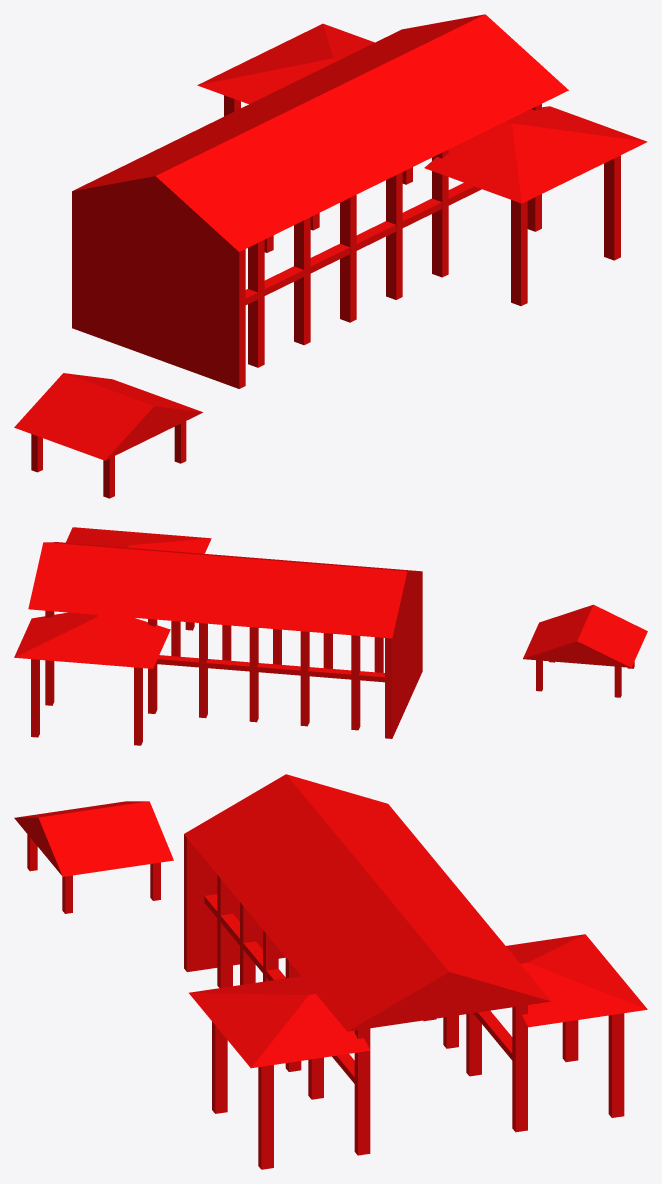
Rendered from 1979-church.obj.
3 views of the same model, one above another, from view 1: azimuth 30°, elevation 25°; view 2: azimuth 150°, elevation 25°; view 3: azimuth 270°, elevation 25° (orthographic). The views are drawn at different scales.
Visible parts, largest first — view 1: Obj_000105, Obj_000104, Obj_000043, Obj_000093, Obj_000094, Obj_000097, Obj_000100, Obj_000099, Obj_000151, Obj_000154, Obj_000153, Obj_000152 (+5 smaller); view 2: Obj_000105, Obj_000043, Obj_000104, Obj_000100, Obj_000098, Obj_000099, Obj_000101, Obj_000093, Obj_000146, Obj_000147, Obj_000144, Obj_000145 (+10 smaller); view 3: Obj_000105, Obj_000043, Obj_000093, Obj_000092, Obj_000101, Obj_000104, Obj_000100, Obj_000141, Obj_000148, Obj_000103, Obj_000090, Obj_000097 (+10 smaller).
Part boxes in pixels (<box>): Obj_000105: <box>72,14,568,251</box>; Obj_000104: <box>72,191,245,388</box>; Obj_000043: <box>14,373,202,460</box>; Obj_000093: <box>512,123,646,203</box>; Obj_000094: <box>424,121,521,203</box>; Obj_000097: <box>245,182,481,304</box>; Obj_000100: <box>197,23,332,85</box>; Obj_000099: <box>197,58,338,104</box>; Obj_000151: <box>248,240,264,367</box>; Obj_000154: <box>294,217,310,344</box>; Obj_000153: <box>340,194,356,322</box>; Obj_000152: <box>386,172,402,299</box>; Obj_000105: <box>28,542,422,638</box>; Obj_000043: <box>523,604,647,667</box>; Obj_000104: <box>385,571,422,738</box>; Obj_000100: <box>14,617,152,668</box>; Obj_000098: <box>155,655,384,682</box>; Obj_000099: <box>97,615,170,668</box>; Obj_000101: <box>14,612,97,657</box>; Obj_000093: <box>74,527,209,545</box>; Obj_000146: <box>249,627,258,722</box>; Obj_000147: <box>300,631,309,726</box>; Obj_000144: <box>351,635,360,730</box>; Obj_000145: <box>199,623,207,718</box>; Obj_000105: <box>184,774,551,1031</box>; Obj_000043: <box>14,801,173,876</box>; Obj_000093: <box>189,992,308,1067</box>; Obj_000092: <box>251,994,370,1068</box>; Obj_000101: <box>520,962,647,1027</box>; Obj_000104: <box>184,834,285,972</box>; Obj_000100: <box>528,934,647,1009</box>; Obj_000141: <box>512,1005,527,1132</box>; Obj_000148: <box>354,1028,370,1155</box>; Obj_000103: <box>608,1013,624,1117</box>; Obj_000090: <box>258,1065,273,1169</box>; Obj_000097: <box>204,894,354,1083</box>.
Size of the model in its own units: 48.01 by 12 by 38.51.
